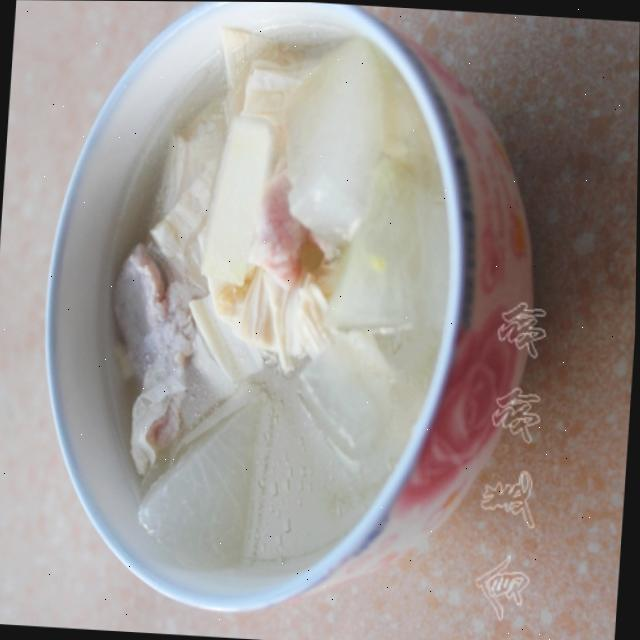汤锅炖物: (72, 4, 466, 600)
